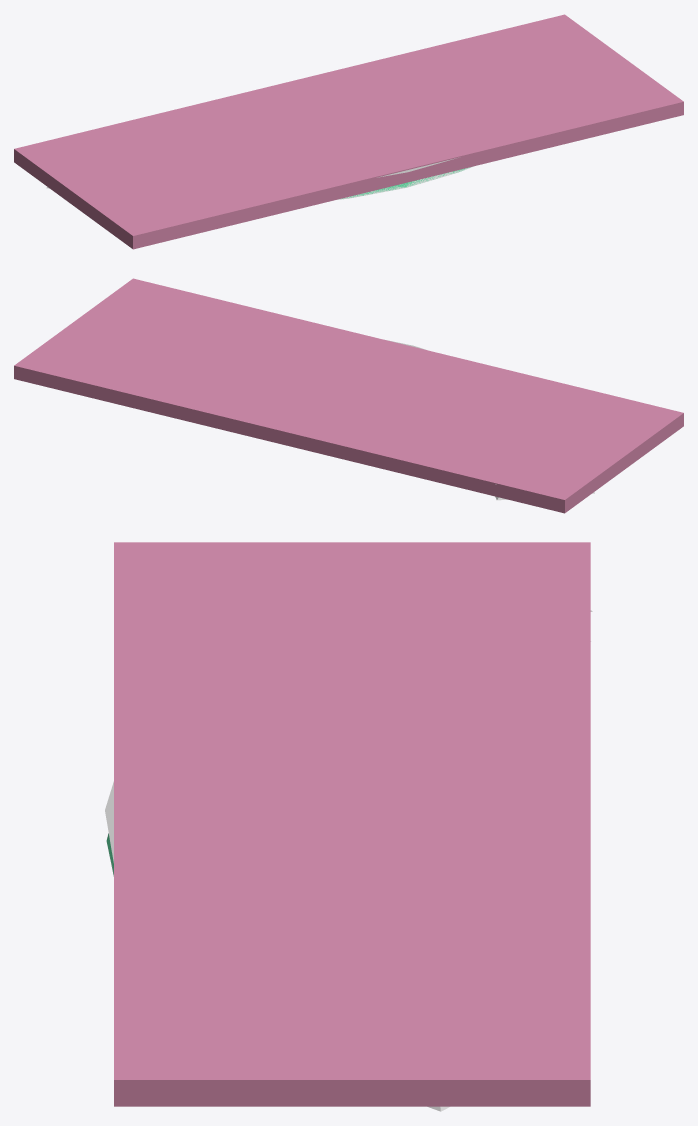
The model's file is race_curb_01_90a.dae.
3 views of the same model, one above another, from view 1: azimuth 30°, elevation 25°; view 2: azimuth 150°, elevation 25°; view 3: azimuth 270°, elevation 25° (orthographic). The views are drawn at different scales.
Parts seen in each view (by area): view 1: Untitled, ind_bld_a240, Colmesh-1; view 2: Untitled; view 3: Untitled.
Boxes of the visible parts, bbox=[...] form: Untitled: bbox=[14, 14, 683, 249]; ind_bld_a240: bbox=[46, 166, 473, 199]; Colmesh-1: bbox=[340, 167, 470, 199]; Untitled: bbox=[14, 278, 683, 513]; Untitled: bbox=[114, 542, 590, 1106].
Bounding box in the file's own units: 10.12 × 3.88 × 0.2921.
